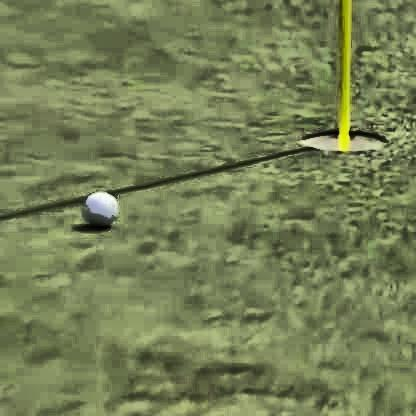golfball: (81, 186, 117, 223)
